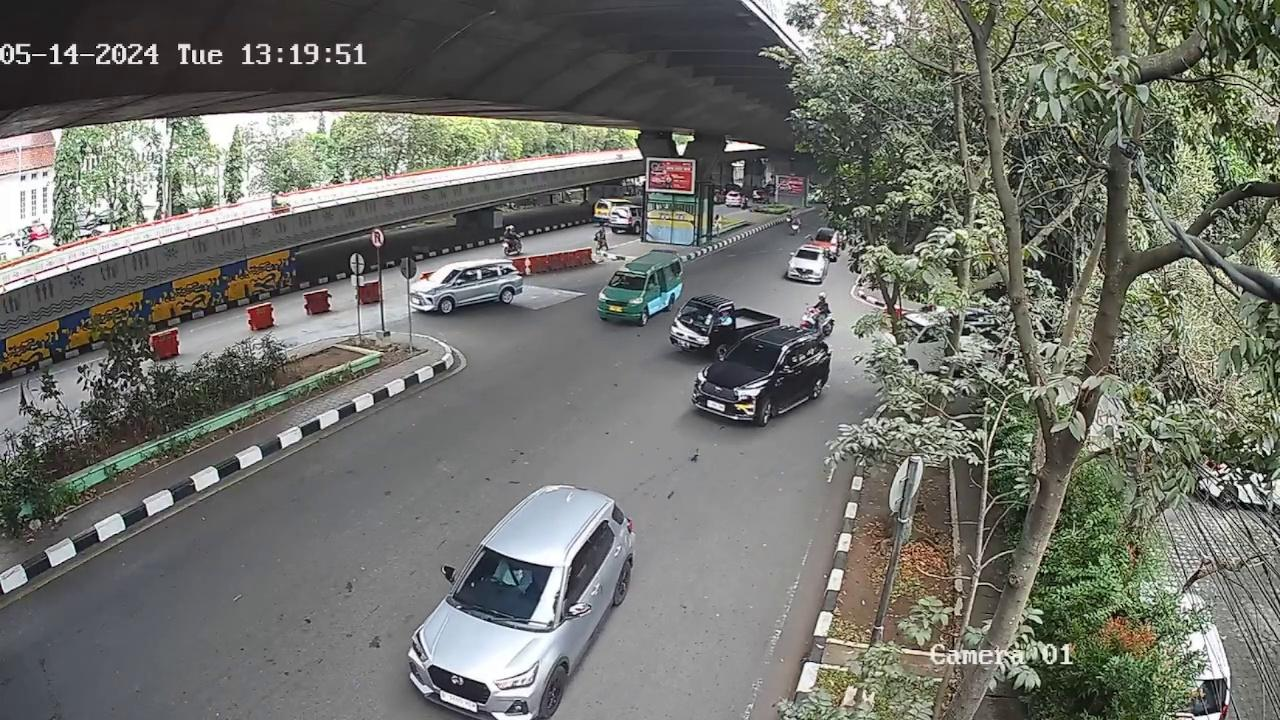pakai: (480, 557, 529, 599)
windshield: (456, 545, 567, 631), (726, 337, 792, 375)
